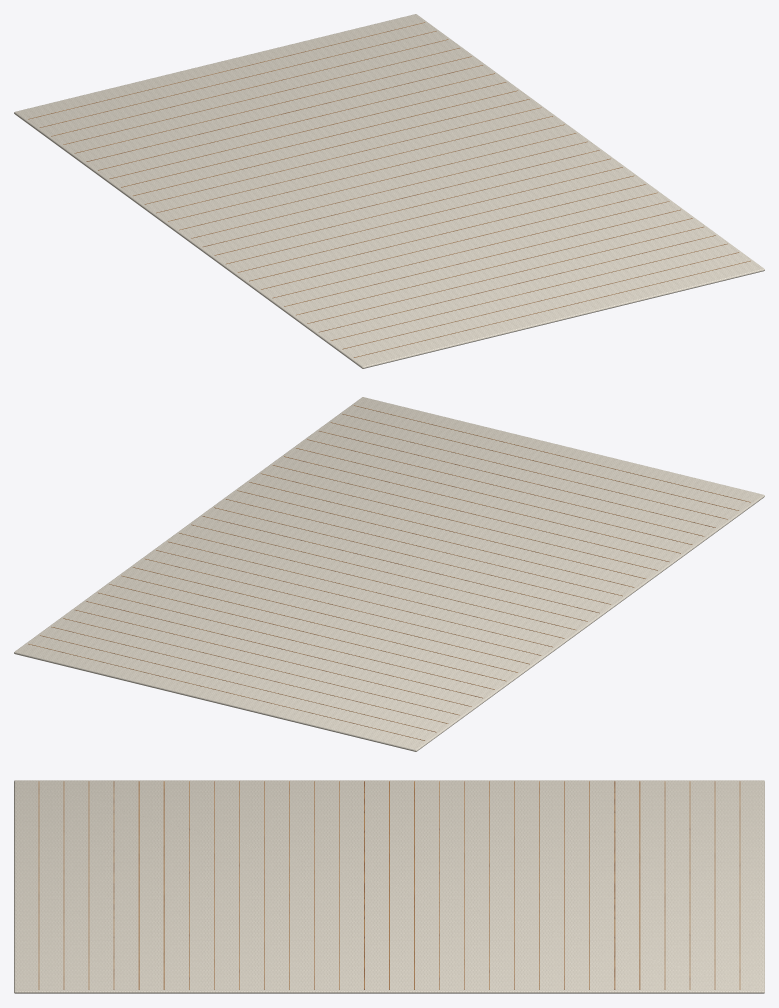
The model's file is alfombra_yute_rectangular_base.glb.
3 renders of one model, top to bottom at view 1: azimuth 30°, elevation 25°; view 2: azimuth 150°, elevation 25°; view 3: azimuth 270°, elevation 25°, orthographic. The views are drawn at different scales.
Visible parts, largest first — view 1: alfombra_yute_rectangular_base; view 2: alfombra_yute_rectangular_base; view 3: alfombra_yute_rectangular_base.
Part boxes in pixels (x1,y1,x2,y2): alfombra_yute_rectangular_base: (14, 14, 764, 368); alfombra_yute_rectangular_base: (14, 397, 764, 751); alfombra_yute_rectangular_base: (14, 780, 764, 993).
Bounding box in the file's own units: 2 × 0.0128 × 3.
Materials: 2 (2 with a texture image).
